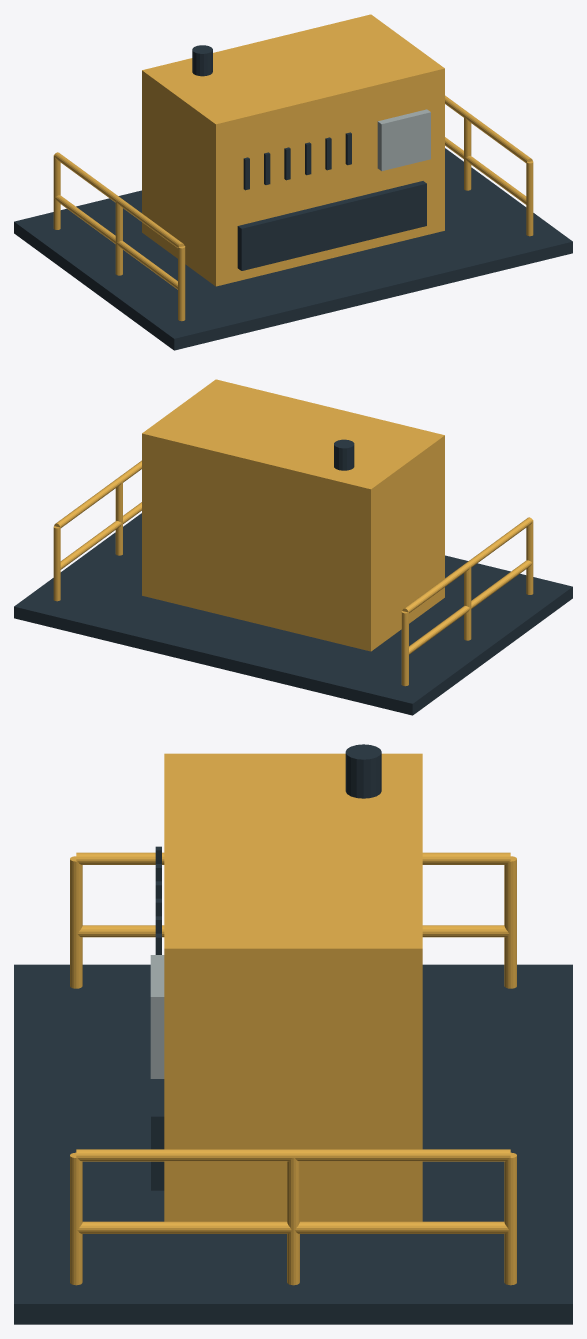
File: scendance-plan-generator-point.glb
3 renders of one model, top to bottom at view 1: azimuth 30°, elevation 25°; view 2: azimuth 150°, elevation 25°; view 3: azimuth 270°, elevation 25°, orthographic. The views are drawn at different scales.
Size of the model in its own units: 3.55 by 1.67 by 2.47.
